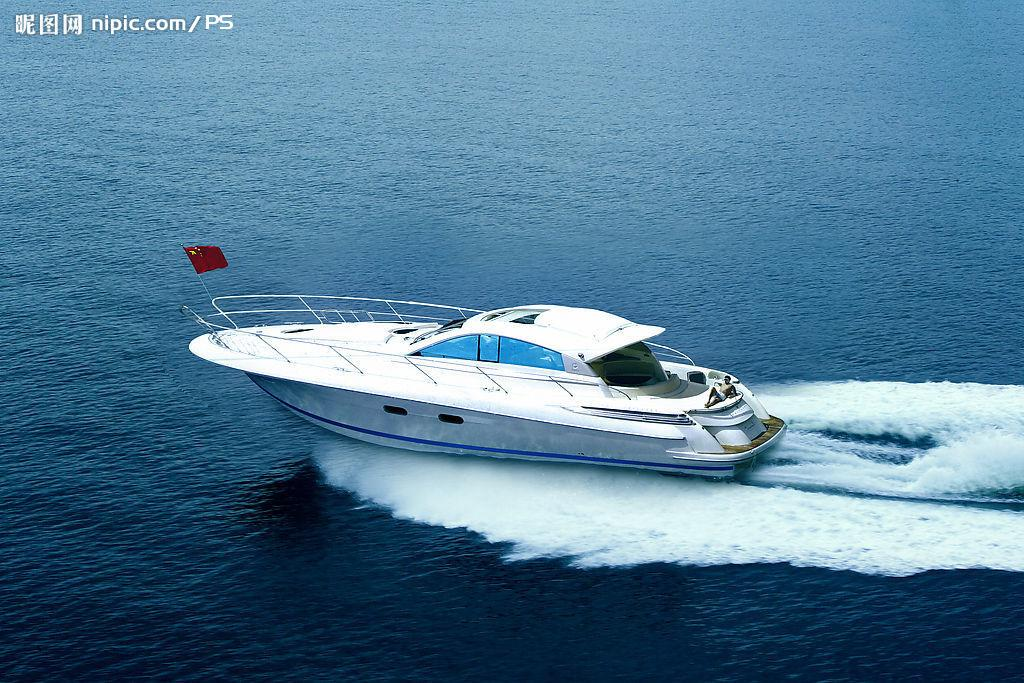yacht: (173, 237, 786, 483)
